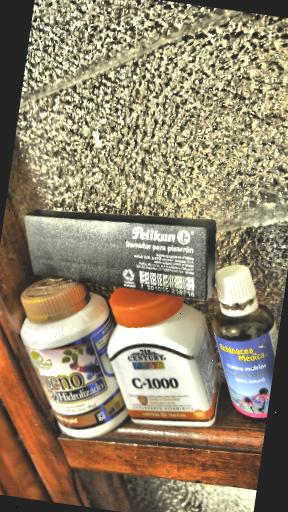borrador: (25, 210, 216, 300)
